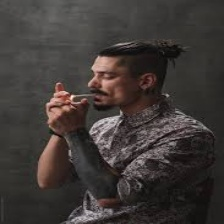fire: (70, 95, 73, 101)
